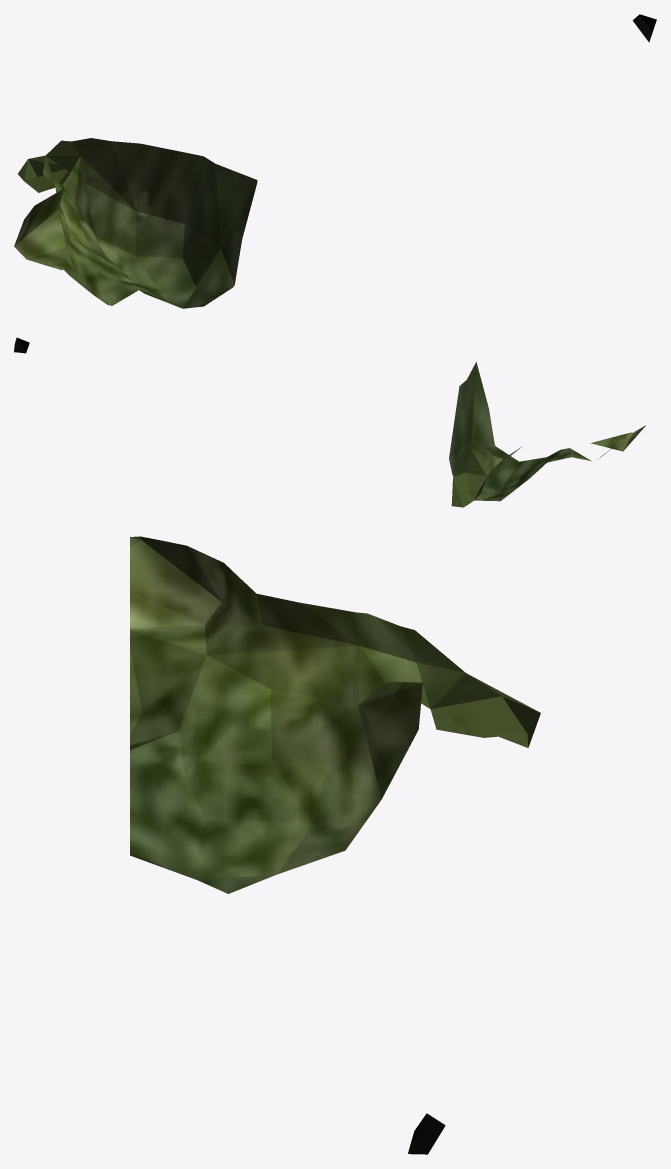
3 renders of one model, top to bottom at view 1: azimuth 30°, elevation 25°; view 2: azimuth 150°, elevation 25°; view 3: azimuth 270°, elevation 25°, orthographic. The views are drawn at different scales.
Size of the model in its own units: 2.1 by 0.367 by 0.6545.
Materials: 1 (1 with a texture image).
